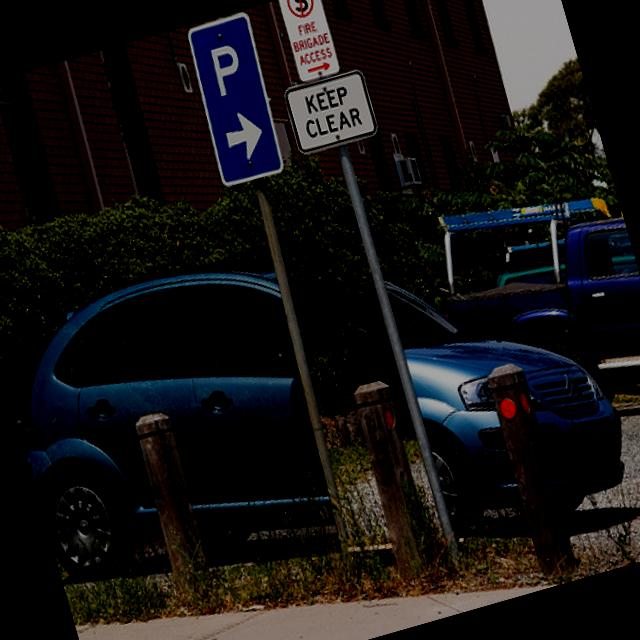Vehicle: (0, 162, 640, 640), (414, 164, 640, 440), (490, 254, 570, 300)
